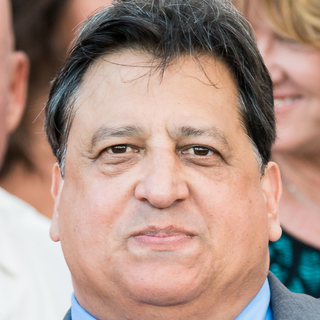eye: (92, 139, 144, 164), (172, 142, 225, 165)
